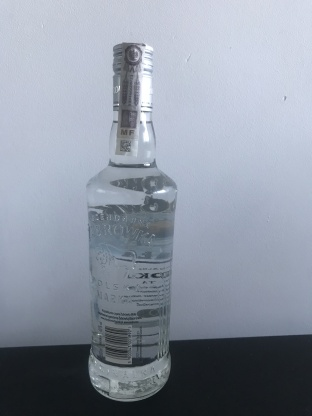nakretka: (110, 38, 155, 115)
